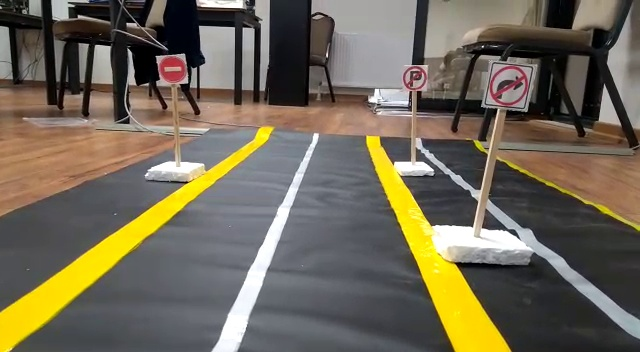girisi_olmayan_yol: (155, 57, 188, 83)
park_yapilmaz: (401, 67, 428, 92)
saga_donulmez: (485, 62, 529, 107)
